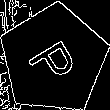P_NE: (23, 30, 84, 88)
